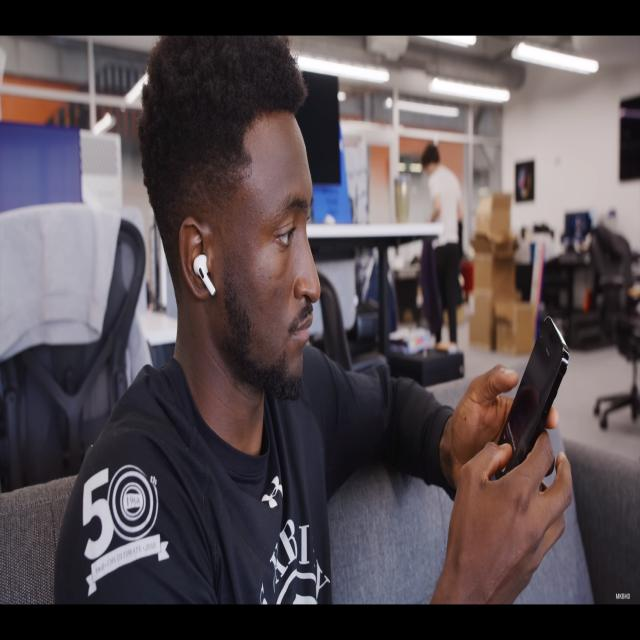airpods: (192, 252, 217, 299)
